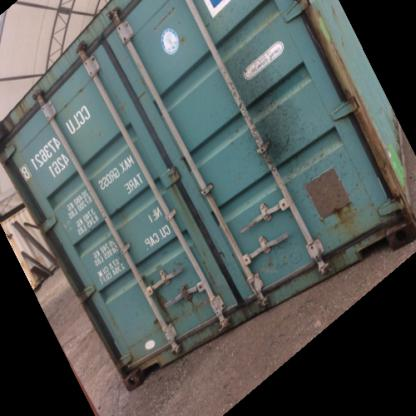Damage: (218, 33, 321, 149), (281, 139, 367, 229), (2, 68, 62, 138), (68, 2, 140, 51), (158, 278, 215, 317)
